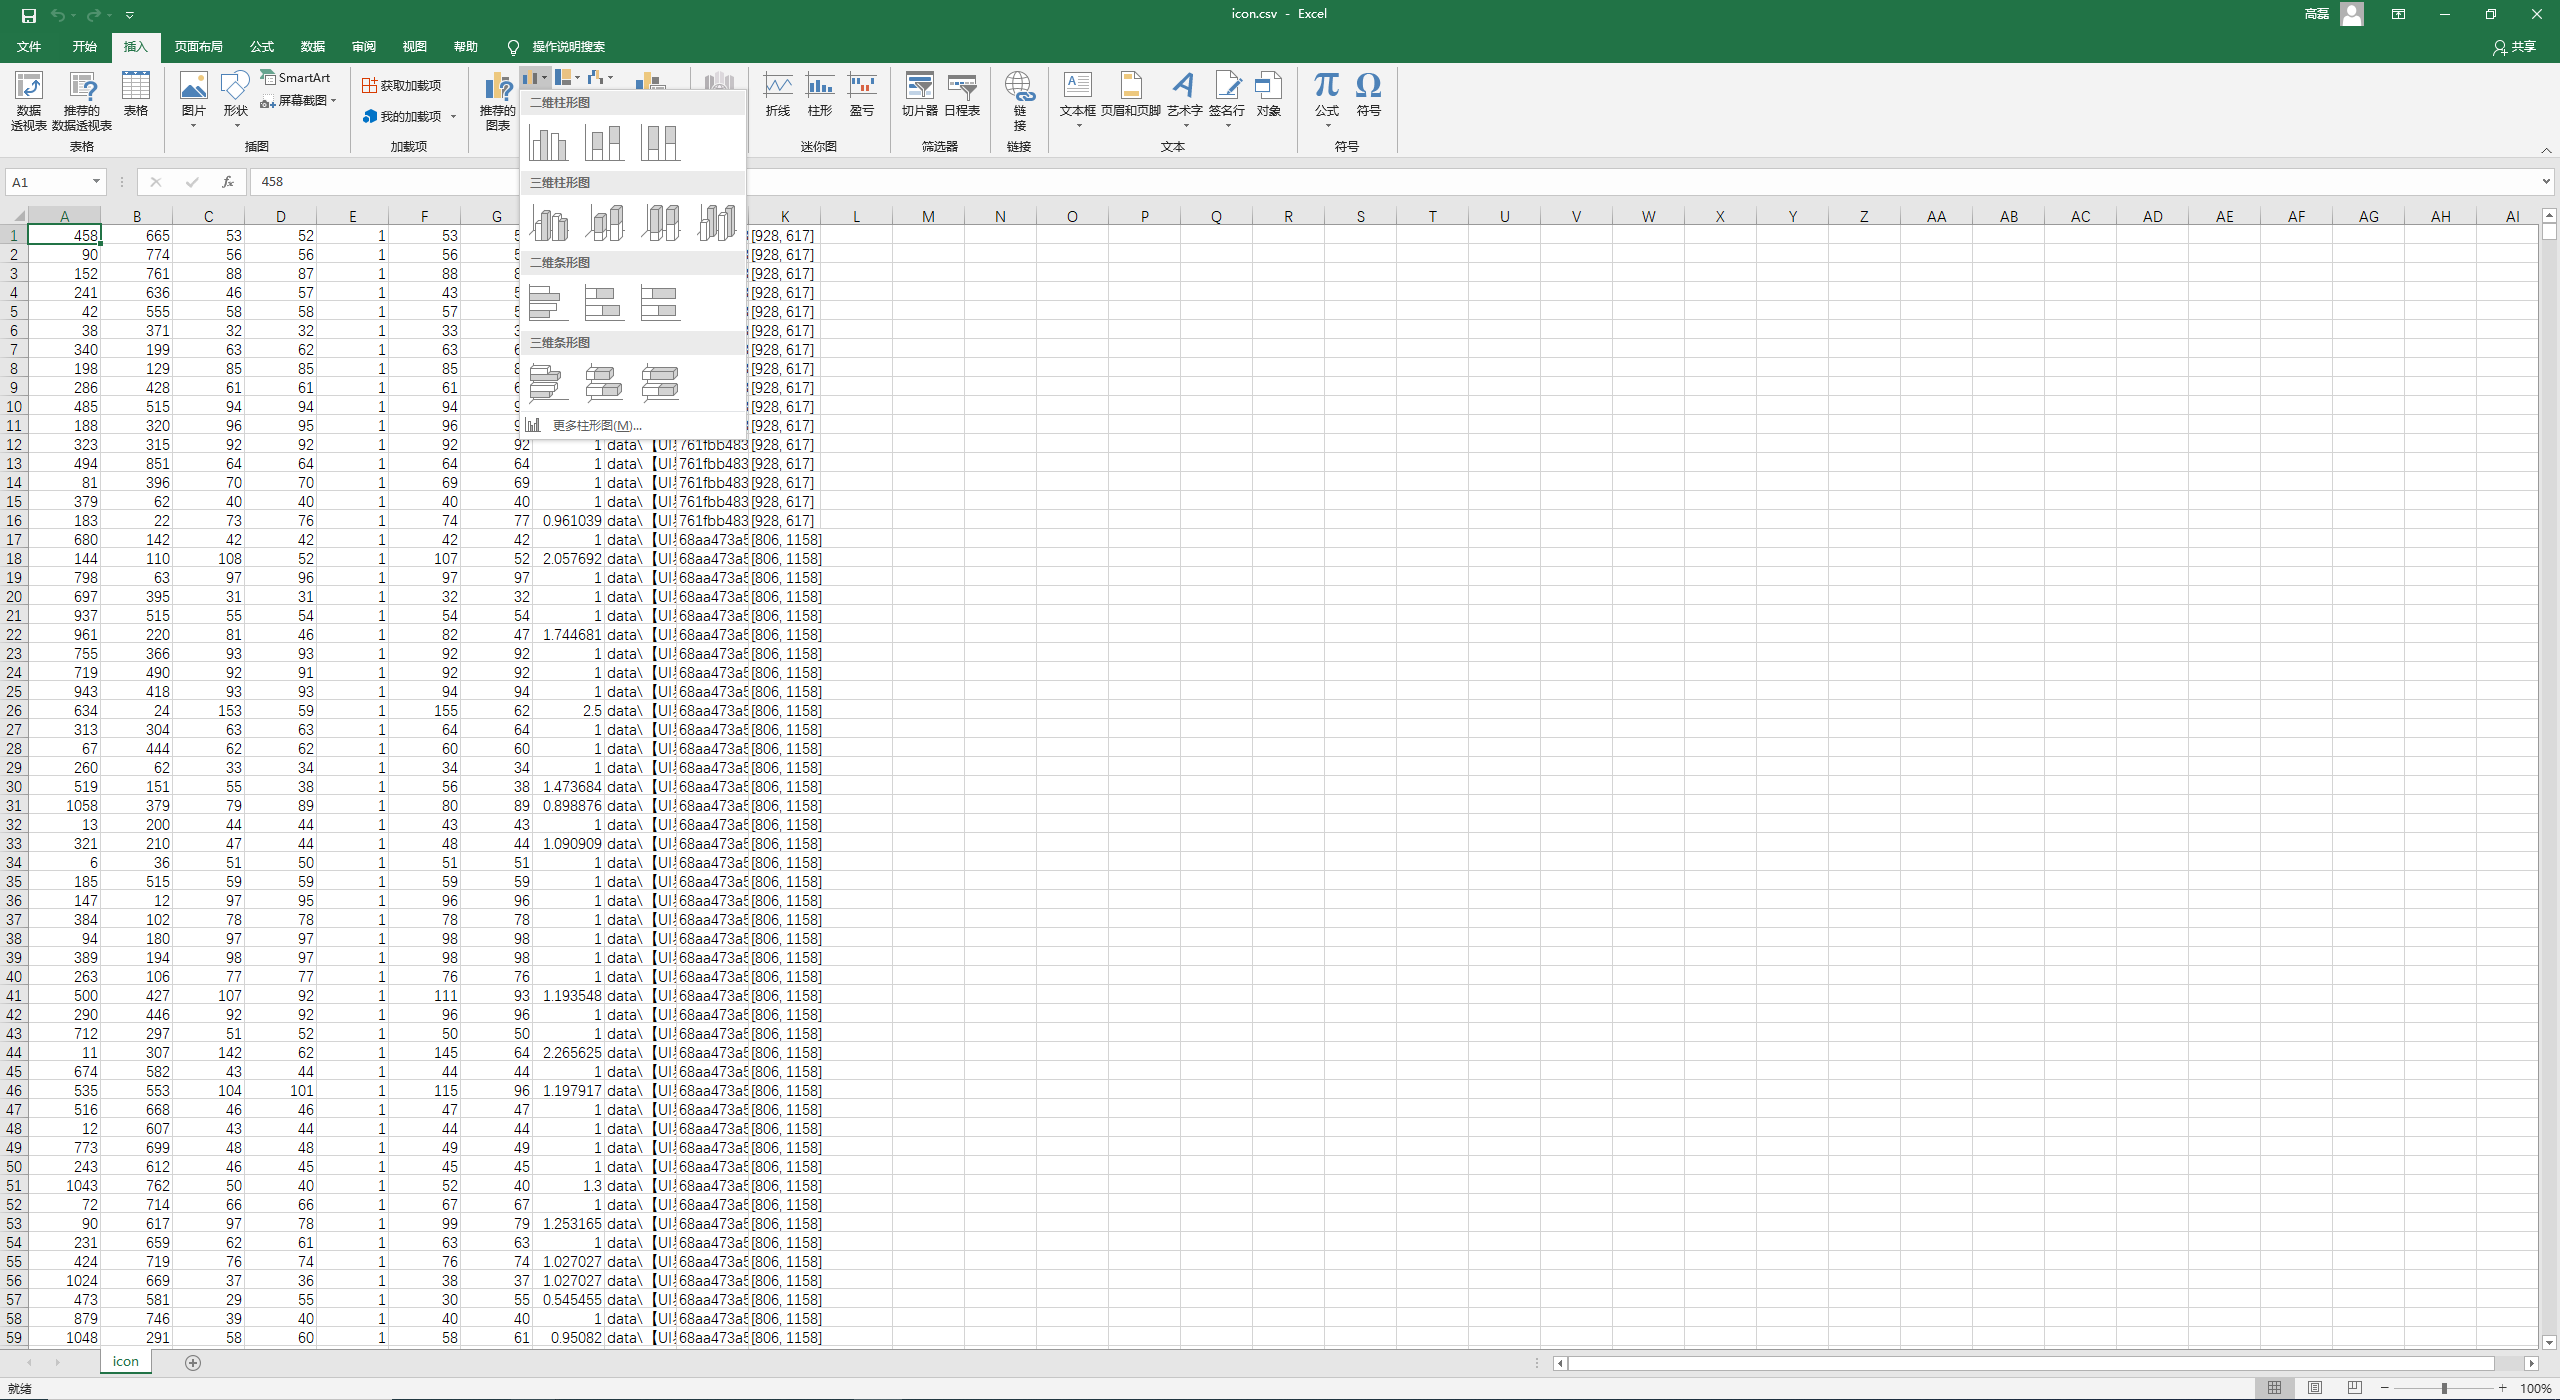character: (52, 103, 119, 134), (553, 417, 645, 436), (1229, 5, 1331, 21), (534, 36, 607, 55), (528, 253, 591, 271), (10, 105, 47, 134), (531, 176, 598, 191), (526, 336, 595, 350), (529, 95, 591, 109), (105, 1348, 147, 1369), (383, 78, 440, 91), (915, 136, 965, 152), (479, 107, 514, 129), (383, 110, 440, 122), (3, 1379, 40, 1397), (1102, 105, 1160, 116), (2301, 3, 2332, 22), (281, 71, 329, 83), (279, 95, 326, 107), (1207, 103, 1246, 117), (178, 40, 222, 52), (348, 36, 376, 55), (247, 40, 276, 57), (798, 140, 840, 152), (945, 105, 984, 117), (402, 36, 429, 53), (450, 38, 478, 55), (391, 140, 429, 152), (1334, 138, 1360, 155), (2512, 38, 2538, 55), (1060, 105, 1096, 117), (1012, 107, 1027, 133), (240, 140, 272, 152), (1002, 140, 1034, 152), (264, 171, 284, 190), (71, 38, 98, 52), (14, 40, 45, 52), (1353, 103, 1384, 116), (2522, 1384, 2558, 1395), (1162, 136, 1184, 152), (302, 40, 326, 53), (807, 103, 834, 116), (179, 103, 205, 116), (1257, 103, 1283, 116), (846, 105, 876, 116), (1171, 105, 1200, 116), (903, 107, 938, 116), (221, 105, 248, 116), (122, 105, 148, 116), (1314, 105, 1339, 116), (71, 141, 95, 152), (124, 40, 147, 50), (767, 105, 790, 116), (12, 176, 29, 186)
icon: (634, 122, 683, 164), (579, 122, 626, 164), (640, 202, 684, 243), (693, 202, 738, 243), (526, 124, 572, 164), (581, 362, 624, 403), (583, 202, 628, 241), (638, 362, 679, 403), (528, 360, 567, 403), (528, 205, 572, 243), (528, 281, 567, 322), (583, 283, 622, 321), (640, 284, 677, 321), (1210, 66, 1245, 102), (217, 67, 252, 102), (1002, 69, 1036, 103), (178, 69, 212, 102), (119, 69, 153, 102), (903, 67, 938, 100), (1252, 67, 1284, 100), (845, 69, 879, 100), (802, 69, 836, 100), (1310, 69, 1345, 100), (66, 71, 98, 102), (483, 71, 515, 102), (1115, 67, 1146, 100), (945, 72, 979, 102), (760, 69, 795, 98), (14, 67, 45, 98), (1352, 69, 1383, 100), (1062, 69, 1095, 98), (1169, 69, 1198, 100), (2296, 1379, 2331, 1398), (2258, 1378, 2289, 1398), (2338, 1378, 2369, 1398), (2338, 2, 2363, 26), (178, 172, 207, 191), (215, 172, 240, 193), (521, 67, 545, 86), (145, 172, 165, 193), (2526, 2, 2546, 22), (183, 1352, 203, 1372), (645, 71, 667, 90), (17, 5, 38, 24), (359, 76, 379, 95), (2481, 3, 2501, 22), (2388, 3, 2408, 22), (2434, 3, 2455, 22), (88, 171, 105, 193), (259, 67, 278, 86), (553, 67, 572, 86), (2489, 38, 2508, 57), (259, 91, 278, 109), (586, 67, 603, 86), (84, 7, 102, 24), (48, 5, 66, 22), (524, 416, 541, 433), (503, 40, 522, 55), (1552, 1355, 1570, 1371), (360, 109, 378, 124), (2376, 1379, 2391, 1397), (2524, 1355, 2539, 1371), (2494, 1379, 2510, 1395), (121, 7, 136, 21), (521, 69, 534, 84), (2543, 205, 2557, 221), (2543, 1334, 2557, 1350), (538, 71, 552, 84), (445, 109, 459, 122), (1072, 117, 1086, 131), (2539, 143, 2553, 157), (229, 117, 245, 129), (636, 72, 648, 88), (328, 91, 340, 105), (1221, 117, 1234, 129), (1179, 117, 1193, 129), (186, 117, 198, 129), (1322, 117, 1334, 129), (67, 9, 78, 22), (572, 71, 583, 84), (2439, 1381, 2450, 1395), (116, 176, 124, 190), (605, 71, 614, 84), (52, 1359, 66, 1367), (2541, 176, 2551, 186), (22, 1359, 33, 1369), (105, 9, 114, 21)
